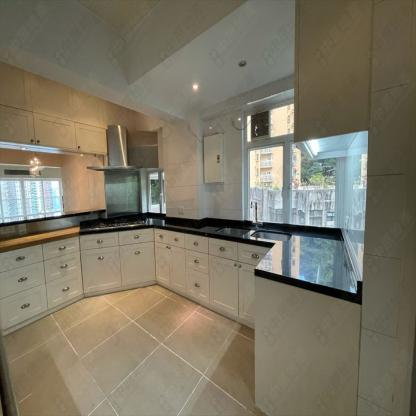Cupboard: (0, 228, 268, 336)
Exhaust Hood: (87, 124, 145, 171)
Faucet: (249, 199, 259, 222)
Sink: (250, 230, 292, 241), (212, 226, 249, 235)
Stove: (86, 217, 148, 230)
